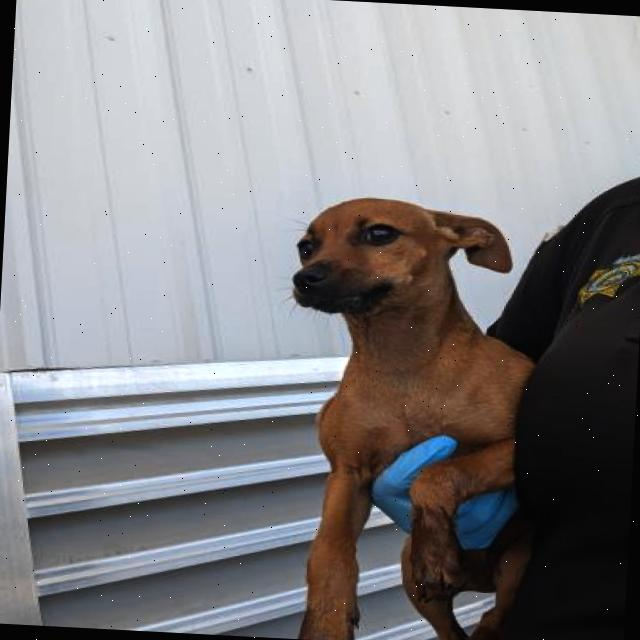chihuahua_dog: (246, 176, 536, 348)
